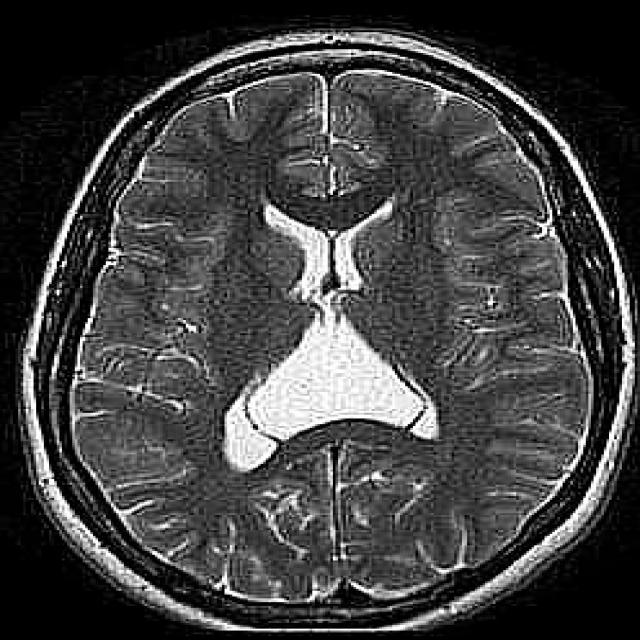Tumor-Cell: (277, 459, 448, 551)
